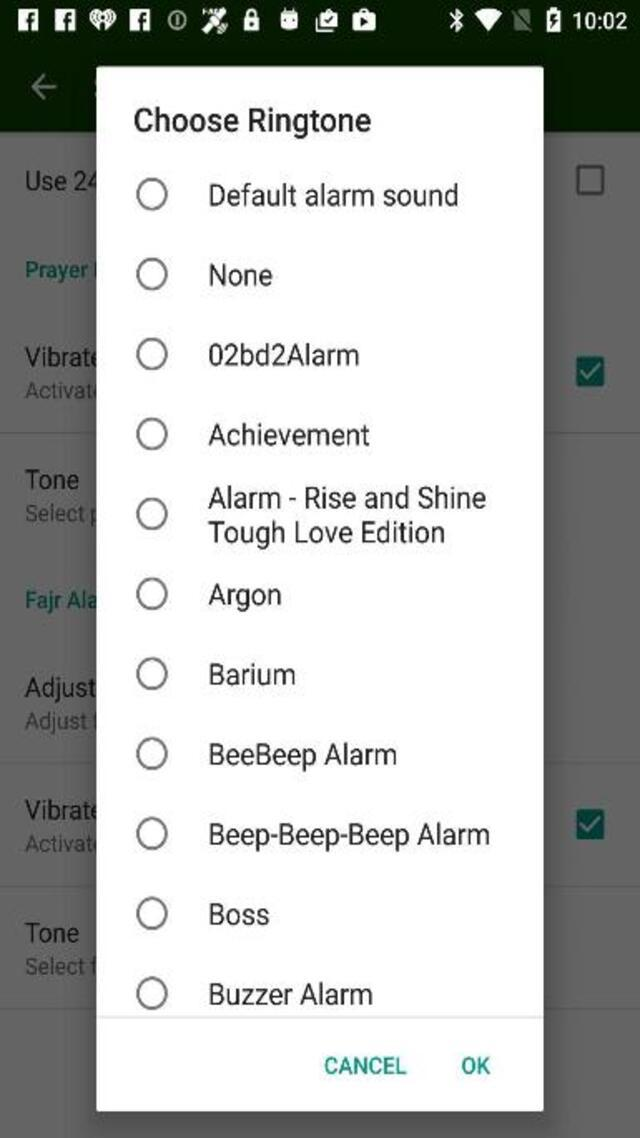CheckedTextView: (136, 482, 491, 551), (136, 817, 488, 851), (137, 178, 468, 212), (137, 737, 402, 774), (136, 417, 377, 452), (136, 337, 368, 373), (136, 975, 372, 1009), (135, 657, 299, 696), (136, 577, 287, 616), (136, 257, 284, 293), (136, 895, 270, 929)
Icon: (29, 74, 56, 100)
Text: (132, 106, 376, 140), (210, 822, 488, 850), (204, 519, 447, 549), (210, 181, 462, 208), (209, 486, 490, 510), (207, 741, 399, 771), (208, 422, 372, 448), (210, 343, 362, 369), (210, 980, 372, 1004), (205, 660, 298, 688), (206, 584, 284, 612), (210, 264, 276, 288), (325, 1056, 406, 1074), (210, 902, 270, 926), (462, 1056, 489, 1074)
